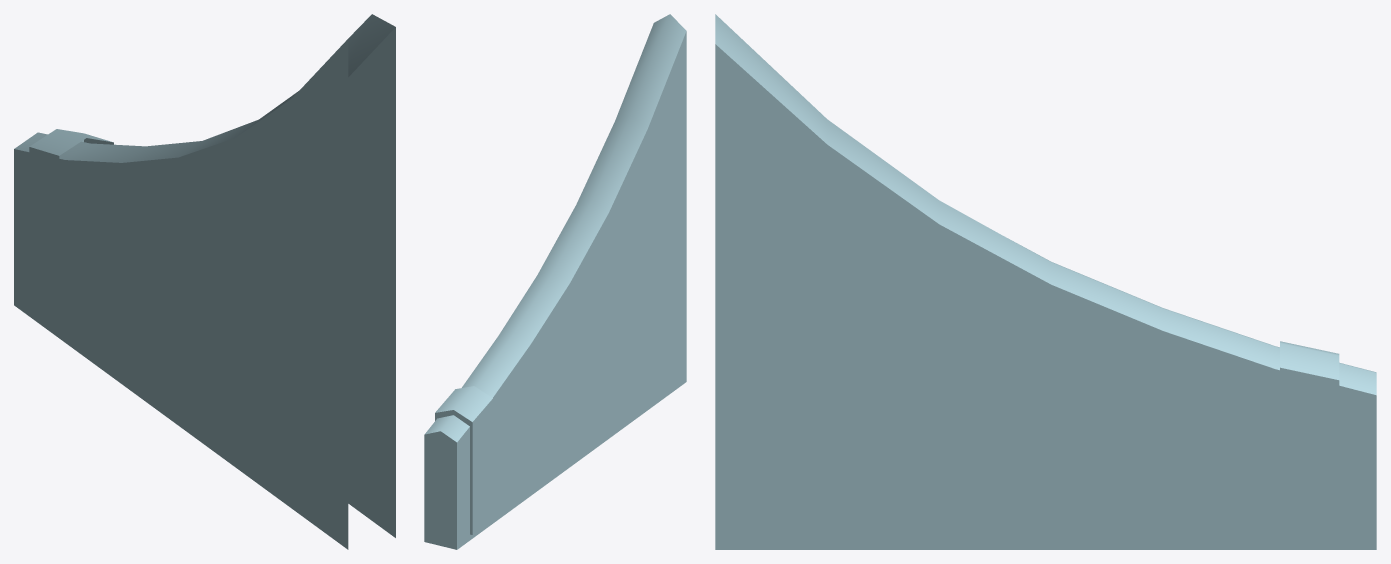
The picture shows the model from 3 angles, left to right: view 1: azimuth 30°, elevation 25°; view 2: azimuth 150°, elevation 25°; view 3: azimuth 270°, elevation 25°; orthographic projection. The views are drawn at different scales.
Visible parts, largest first — view 1: Object31; view 2: Object31; view 3: Object31.
Part boxes in pixels (<box>): Object31: <box>14,14,395,549</box>; Object31: <box>424,14,686,549</box>; Object31: <box>715,14,1376,549</box>.
Bounding box in the file's own units: 5042 × 46569 × 53205.
